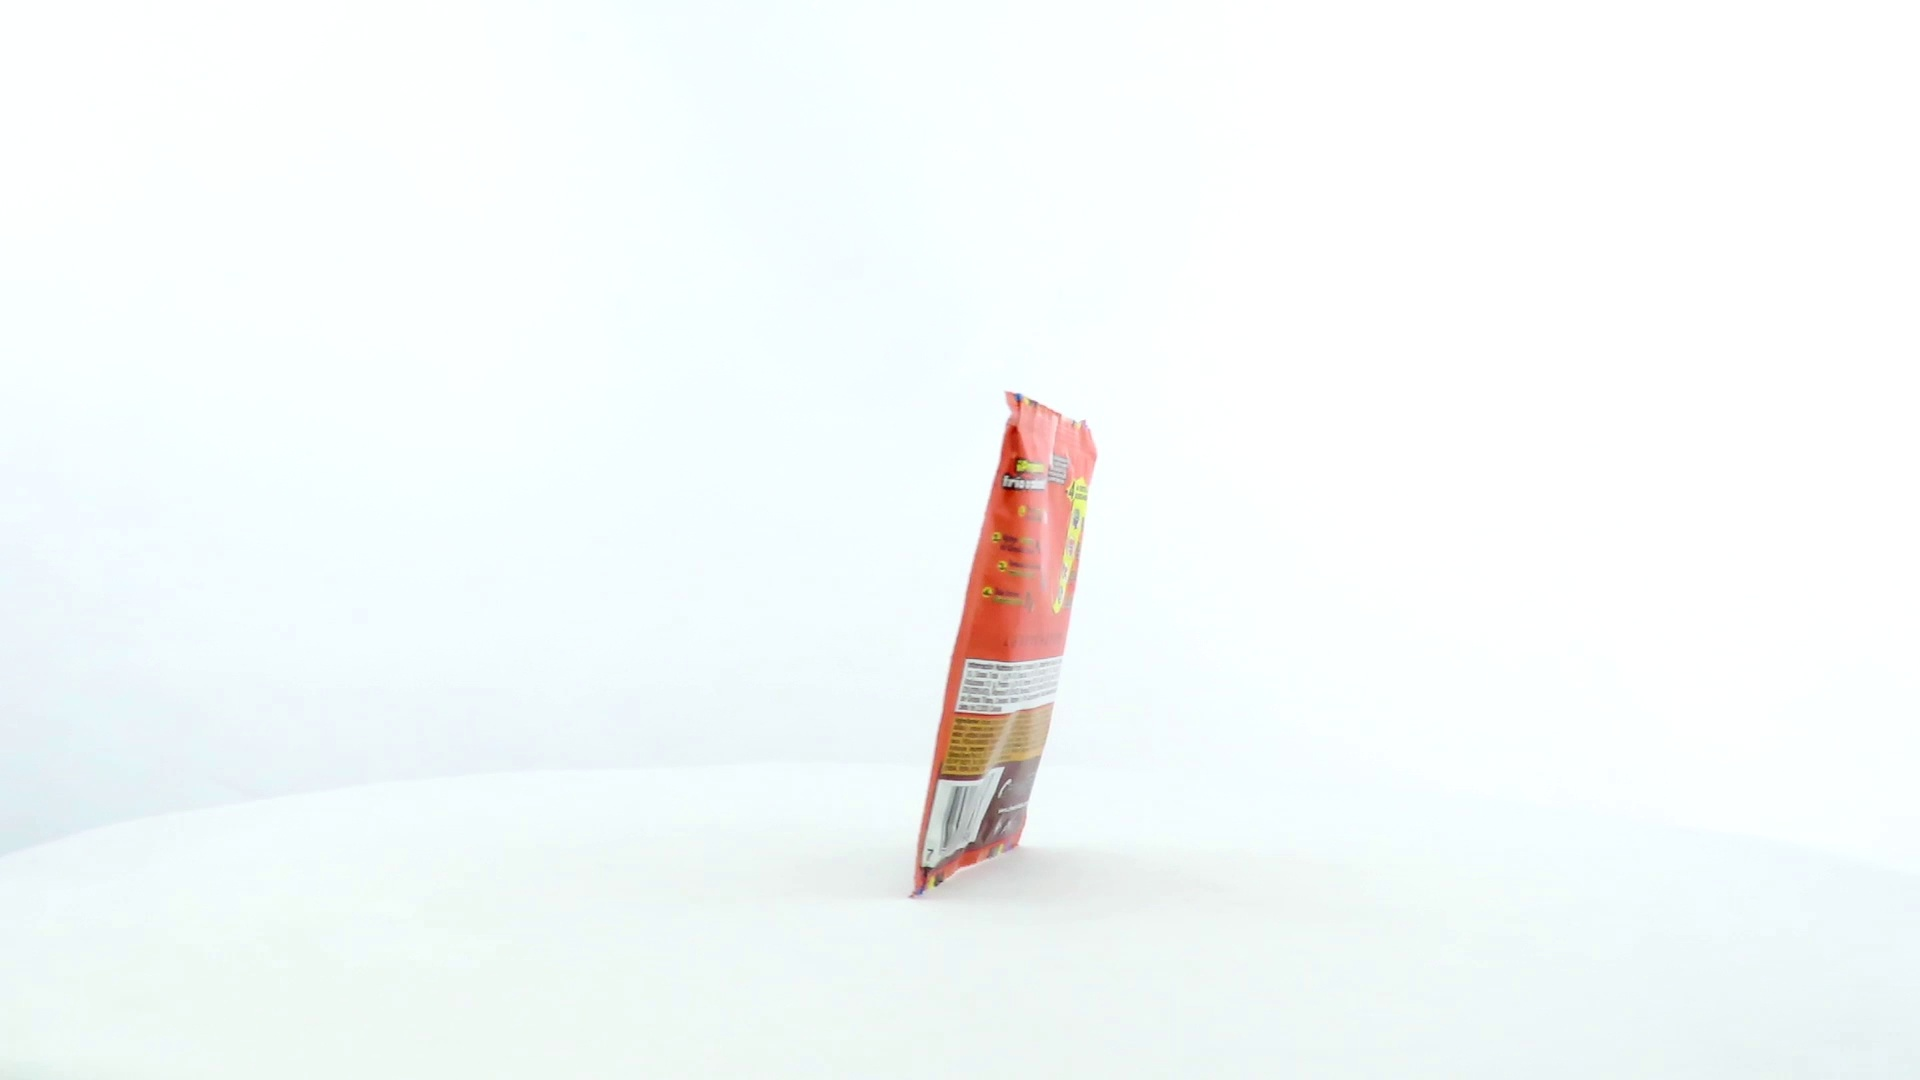COL0170103SOB02000: (903, 386, 1102, 909)
